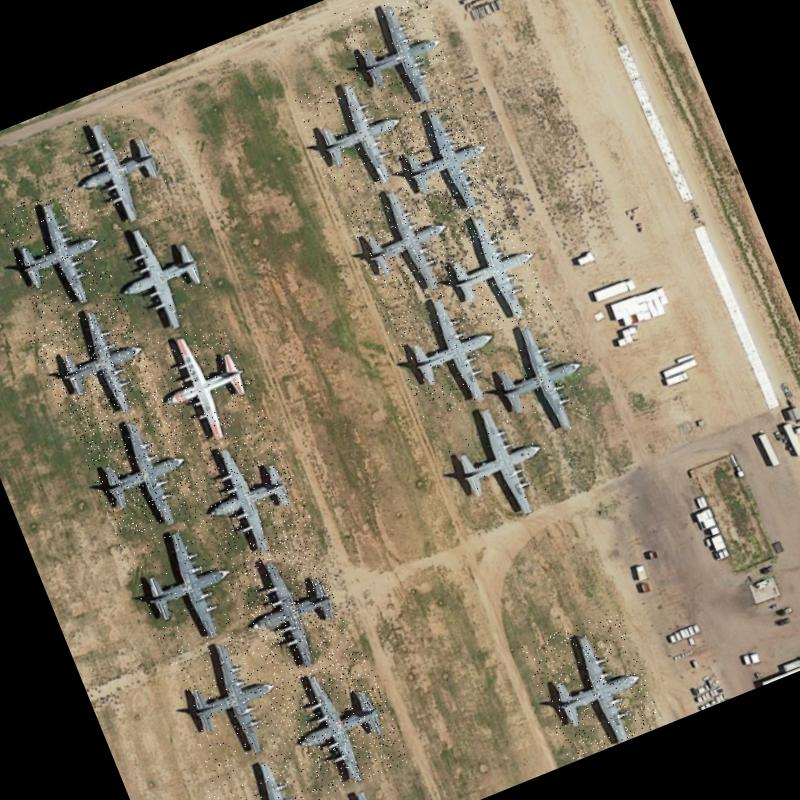A2: (520, 607, 664, 762), (268, 648, 410, 800), (178, 420, 318, 572), (162, 620, 299, 774), (378, 272, 516, 424), (114, 506, 250, 660), (25, 292, 164, 438), (434, 384, 569, 534), (469, 305, 604, 454), (75, 399, 209, 548), (222, 538, 356, 686), (381, 91, 512, 232), (291, 61, 421, 203), (54, 96, 182, 240), (96, 203, 226, 344), (427, 196, 554, 340), (342, 174, 470, 313), (142, 314, 268, 454), (329, 0, 464, 129), (0, 180, 118, 321), (202, 742, 345, 800)
